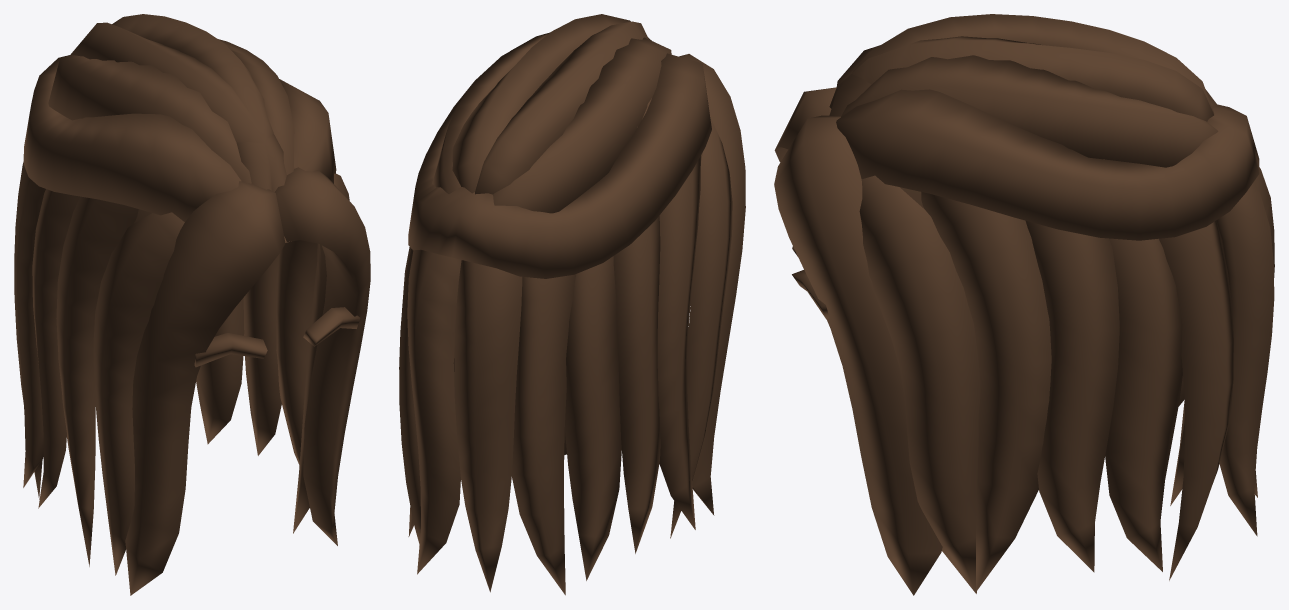
The model's file is umw_soldier.glb.
The picture shows the model from 3 angles, left to right: view 1: azimuth 30°, elevation 25°; view 2: azimuth 150°, elevation 25°; view 3: azimuth 270°, elevation 25°; orthographic projection. The views are drawn at different scales.
Parts seen in each view (by area): view 1: Soldier; view 2: Soldier; view 3: Soldier.
Boxes of the visible parts, x1=… form: Soldier: x1=14, y1=14, x2=370, y2=595; Soldier: x1=399, y1=14, x2=745, y2=595; Soldier: x1=774, y1=14, x2=1274, y2=595.
Bounding box in the file's own units: 0.1767 × 0.3448 × 0.2995.
